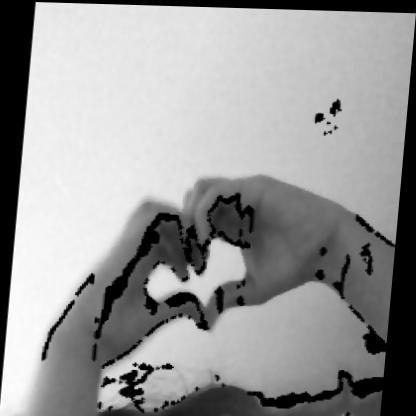heart: (53, 156, 362, 355)
